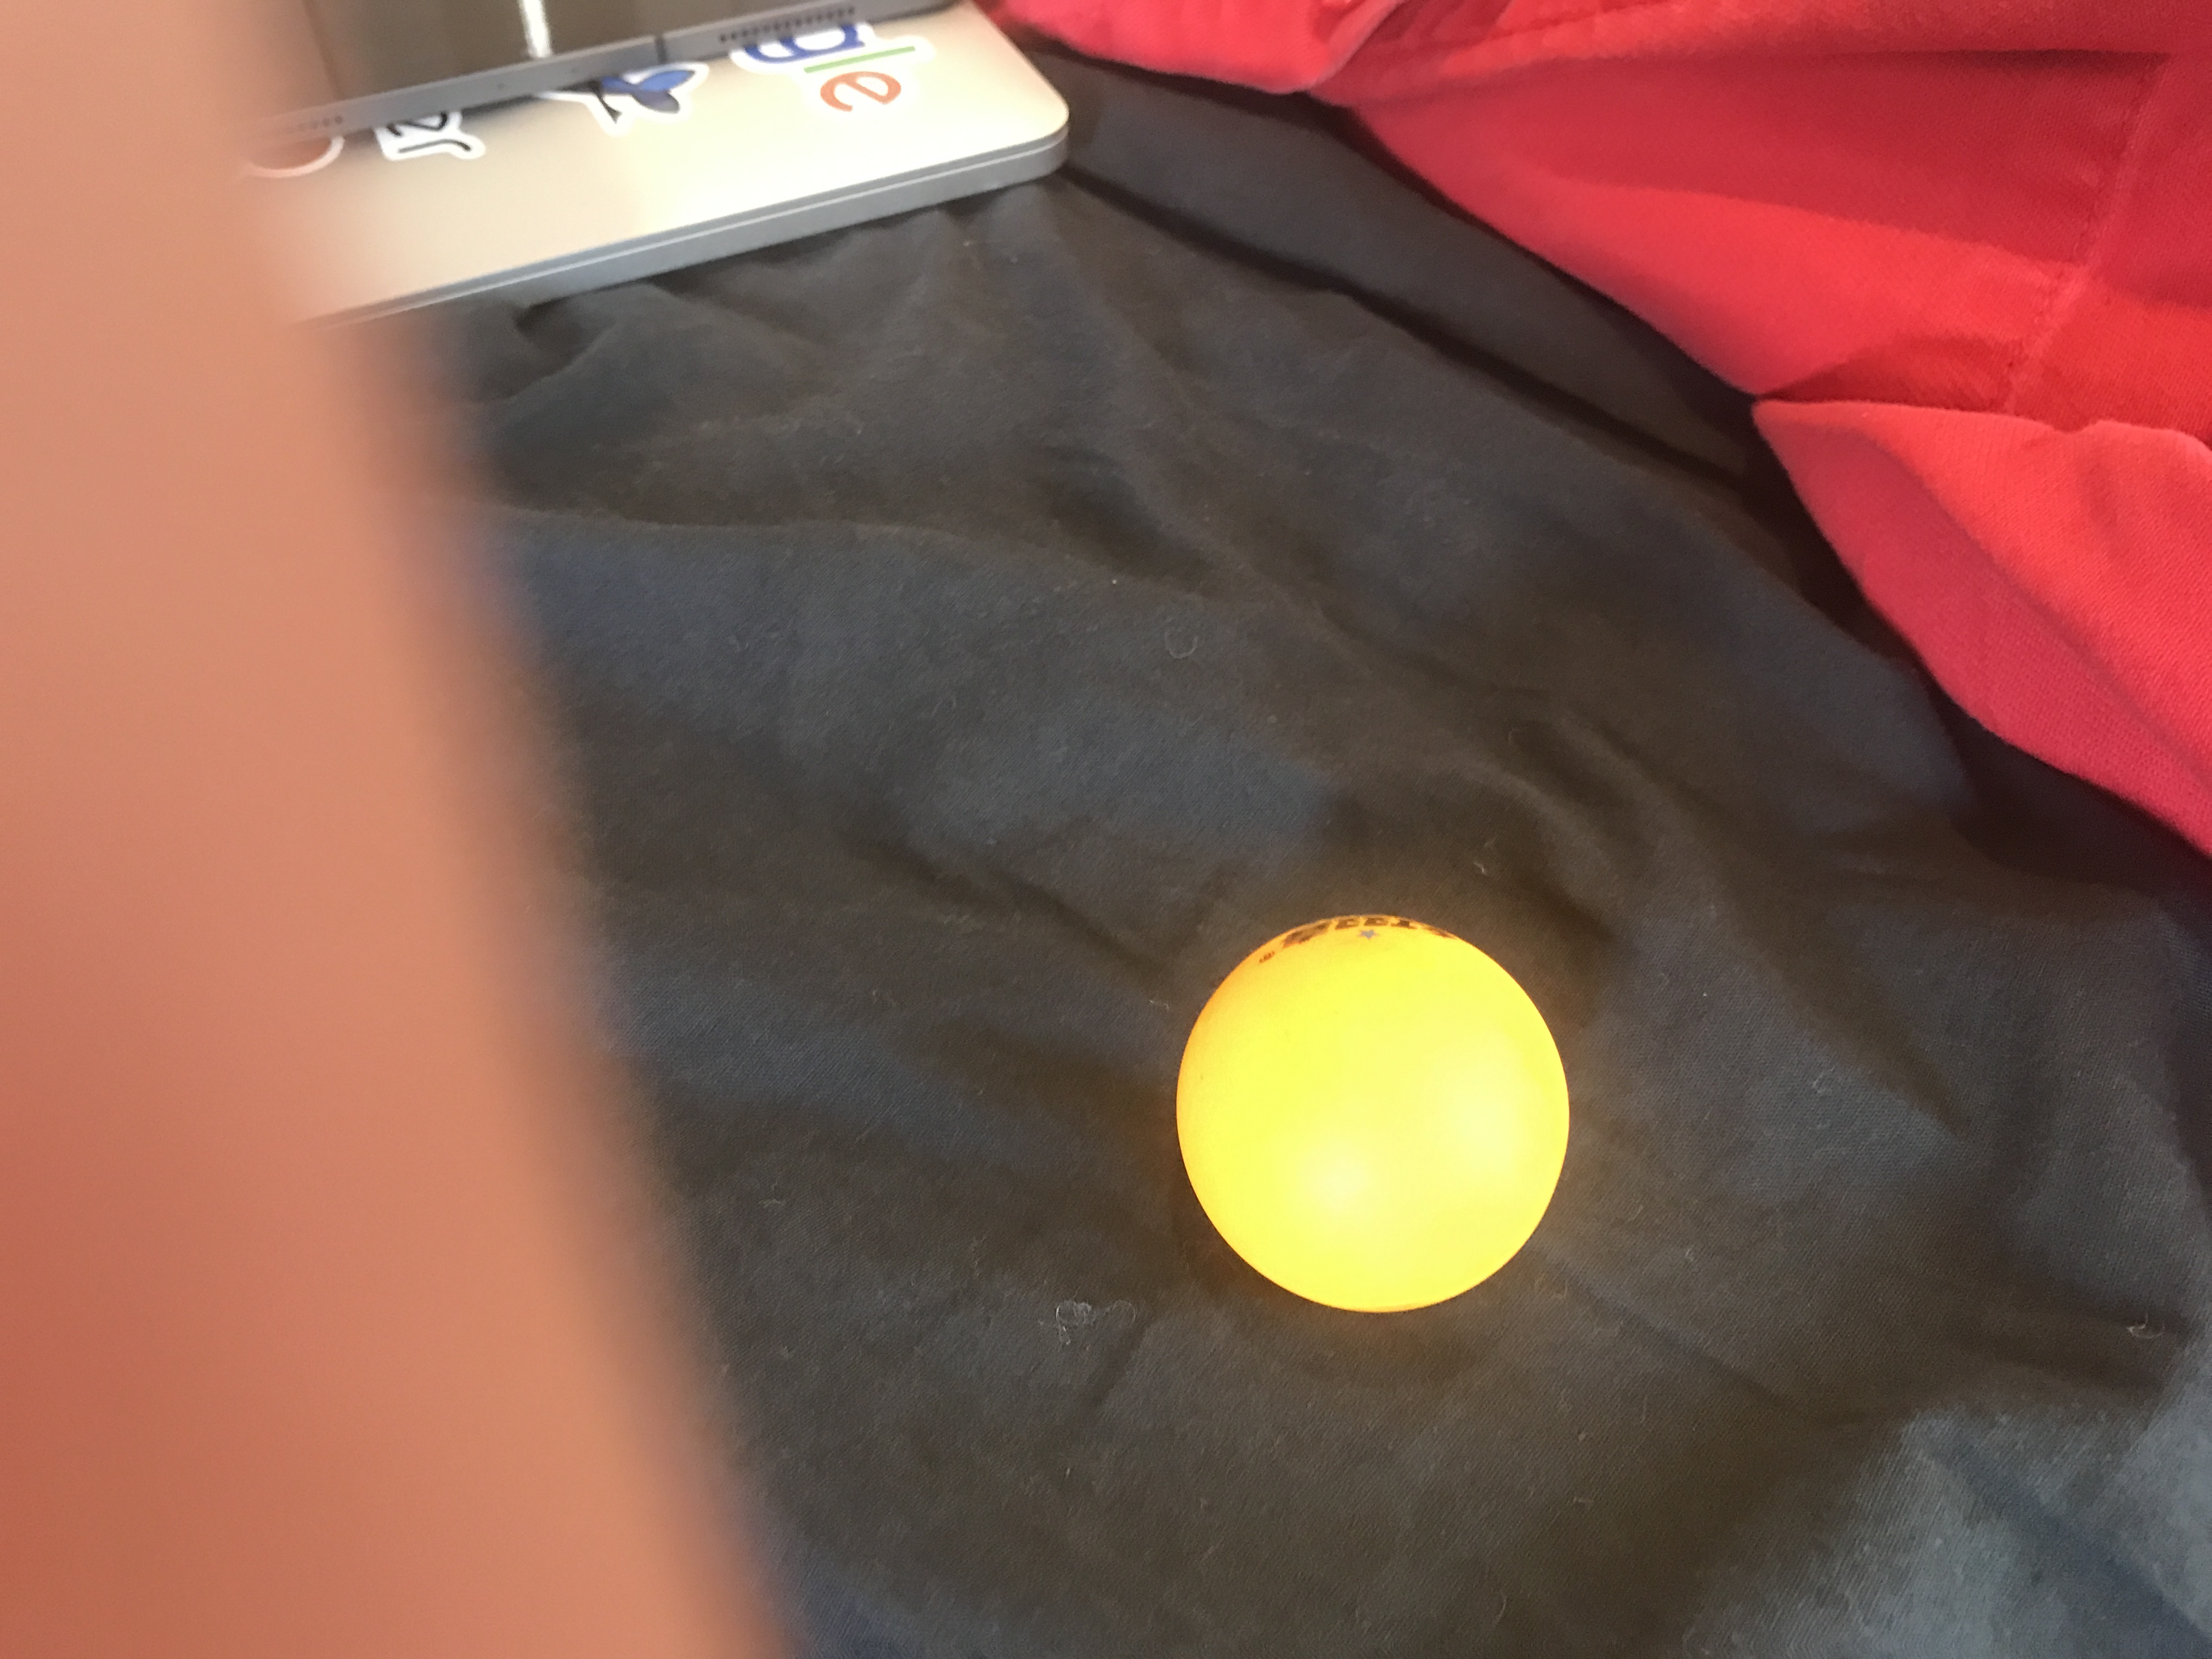pp: (1172, 911, 1571, 1310)
